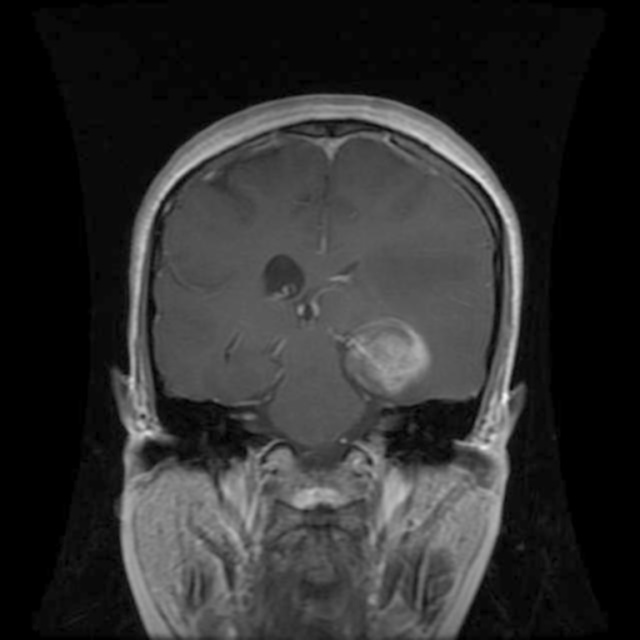pituitary tumor: (346, 320, 430, 396)
